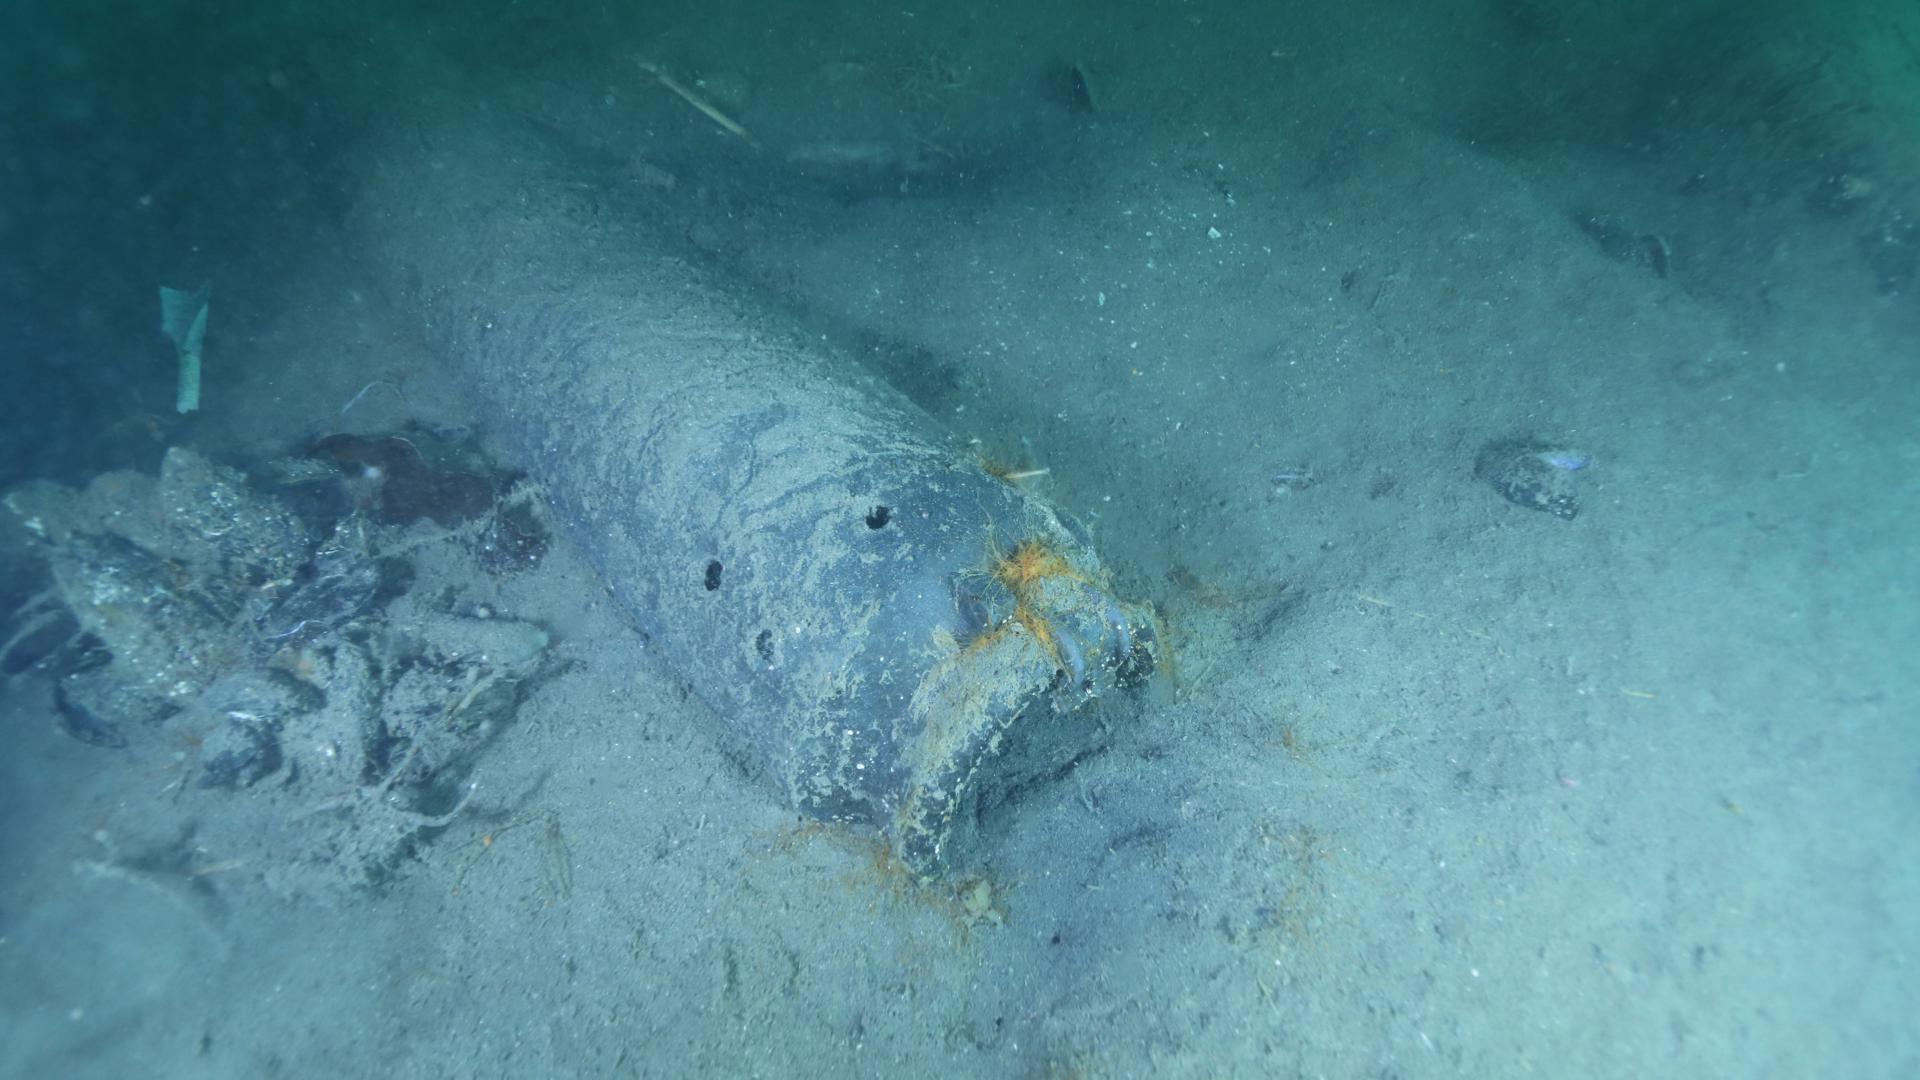eel fish trap: (208, 5, 1151, 851)
